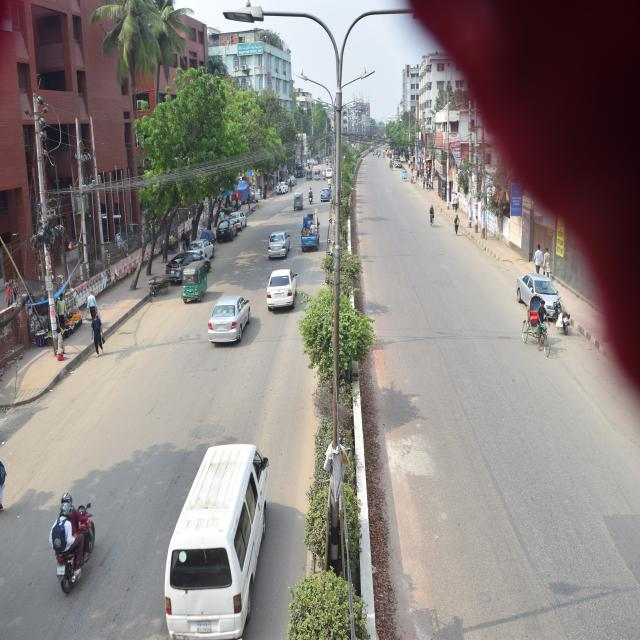car: (209, 286, 252, 352), (514, 264, 564, 320), (264, 260, 301, 314), (262, 224, 293, 262), (166, 246, 195, 285), (187, 234, 215, 265), (212, 213, 236, 248), (228, 201, 252, 235), (316, 182, 334, 210), (273, 182, 290, 196)
microbus: (162, 422, 275, 640)
motorbike: (38, 482, 102, 604), (547, 294, 574, 337), (306, 189, 316, 205)
